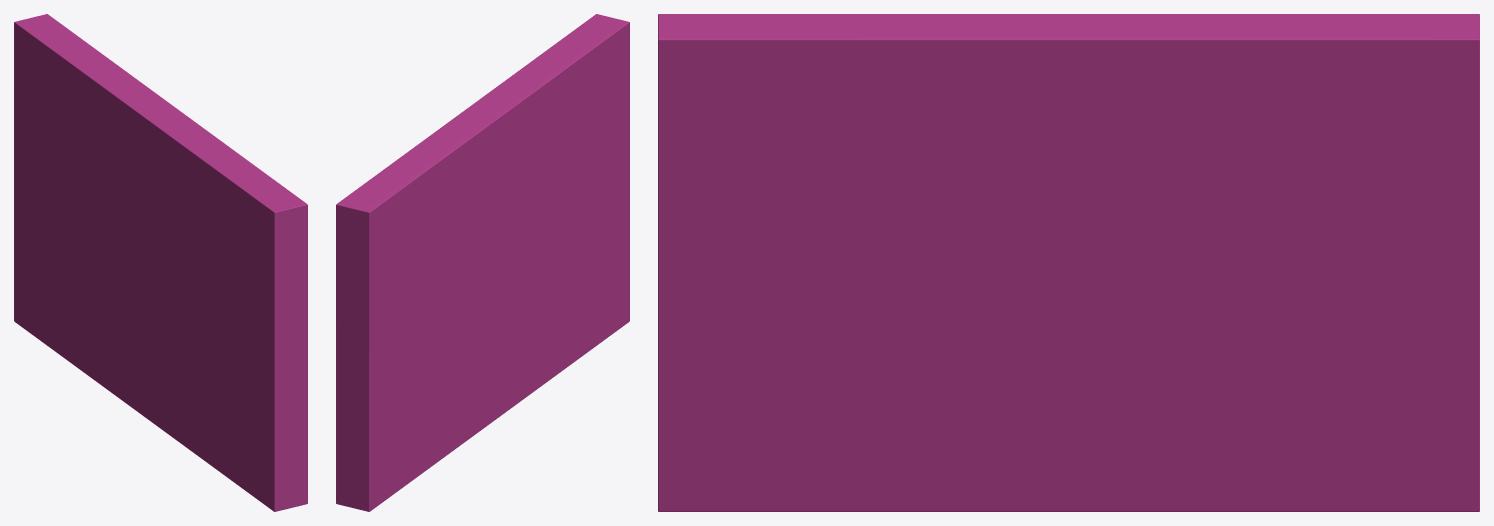
The model's file is StructurePartition_01_Mesh.fbx.
The picture shows the model from 3 angles, left to right: view 1: azimuth 30°, elevation 25°; view 2: azimuth 150°, elevation 25°; view 3: azimuth 270°, elevation 25°; orthographic projection. The views are drawn at different scales.
Visible parts, largest first — view 1: StructurePartition_01; view 2: StructurePartition_01; view 3: StructurePartition_01.
Boxes of the visible parts, x1,y1,x2,y2 form: StructurePartition_01: (14,14,307,511); StructurePartition_01: (336,14,629,511); StructurePartition_01: (658,14,1479,511).
Size of the model in its own units: 57.54 by 490 by 772.
